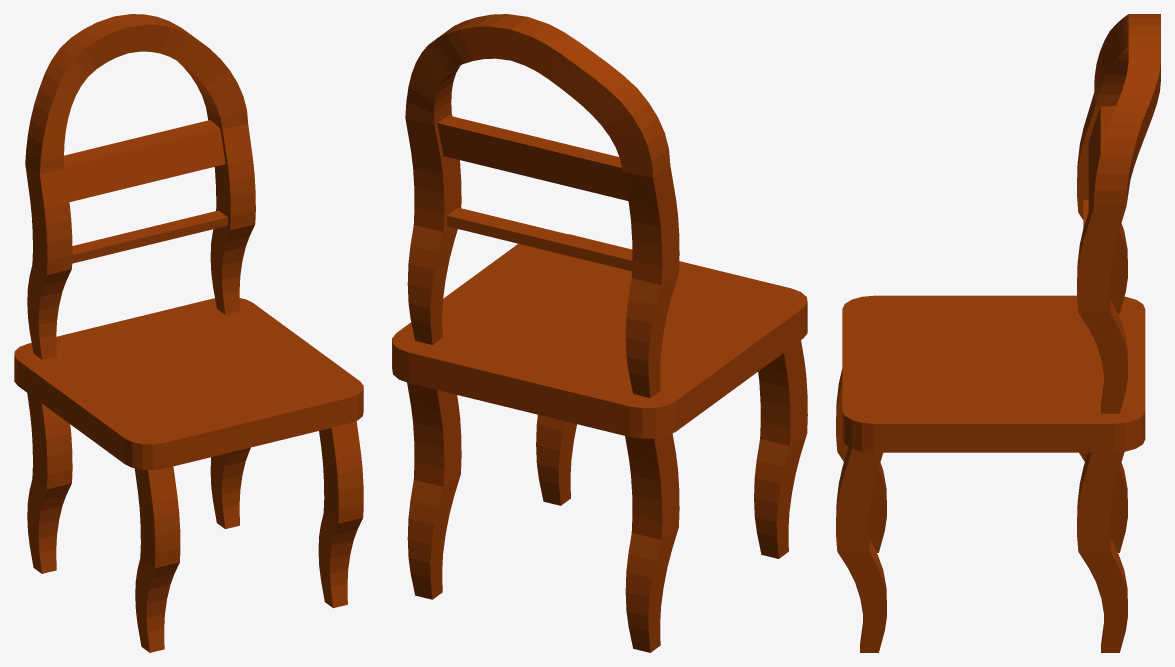
The model's file is chair_styloo.glb.
The picture shows the model from 3 angles, left to right: view 1: azimuth 30°, elevation 25°; view 2: azimuth 150°, elevation 25°; view 3: azimuth 270°, elevation 25°; orthographic projection. The views are drawn at different scales.
Visible parts, largest first — view 1: chair; view 2: chair; view 3: chair.
Part boxes in pixels (bbox=[...]): chair: bbox=[14, 14, 363, 652]; chair: bbox=[392, 14, 807, 652]; chair: bbox=[836, 14, 1160, 652].
Size of the model in its own units: 1.53 by 3.2 by 1.64.
